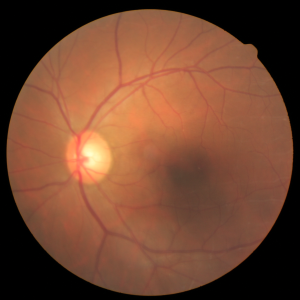glaucoma: (40, 93, 232, 223)
